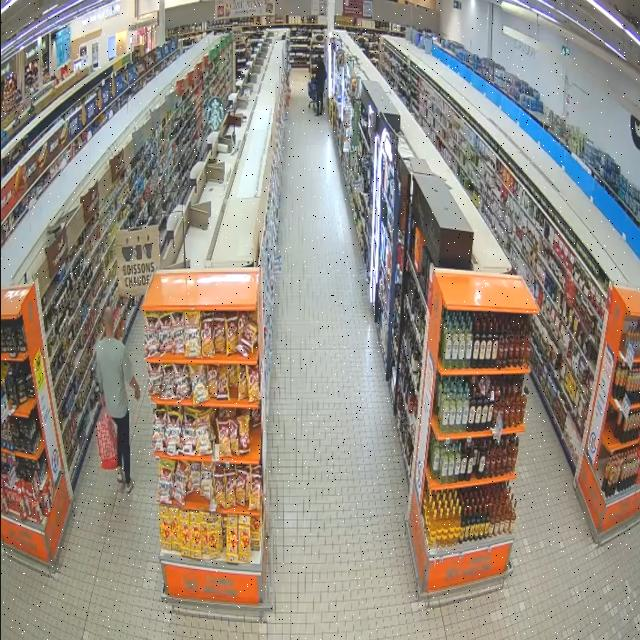bags: (97, 413, 117, 469)
hands: (134, 386, 140, 400), (100, 394, 105, 407)
person: (97, 308, 140, 492), (315, 58, 326, 116)
